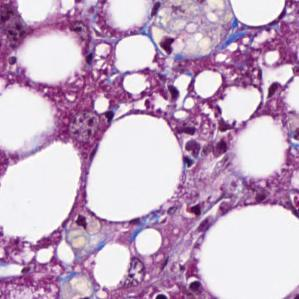inflammation: (172, 125, 205, 170), (158, 31, 177, 58)
